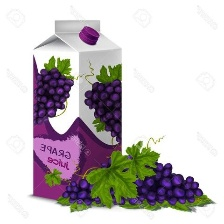carton: (25, 16, 125, 207)
